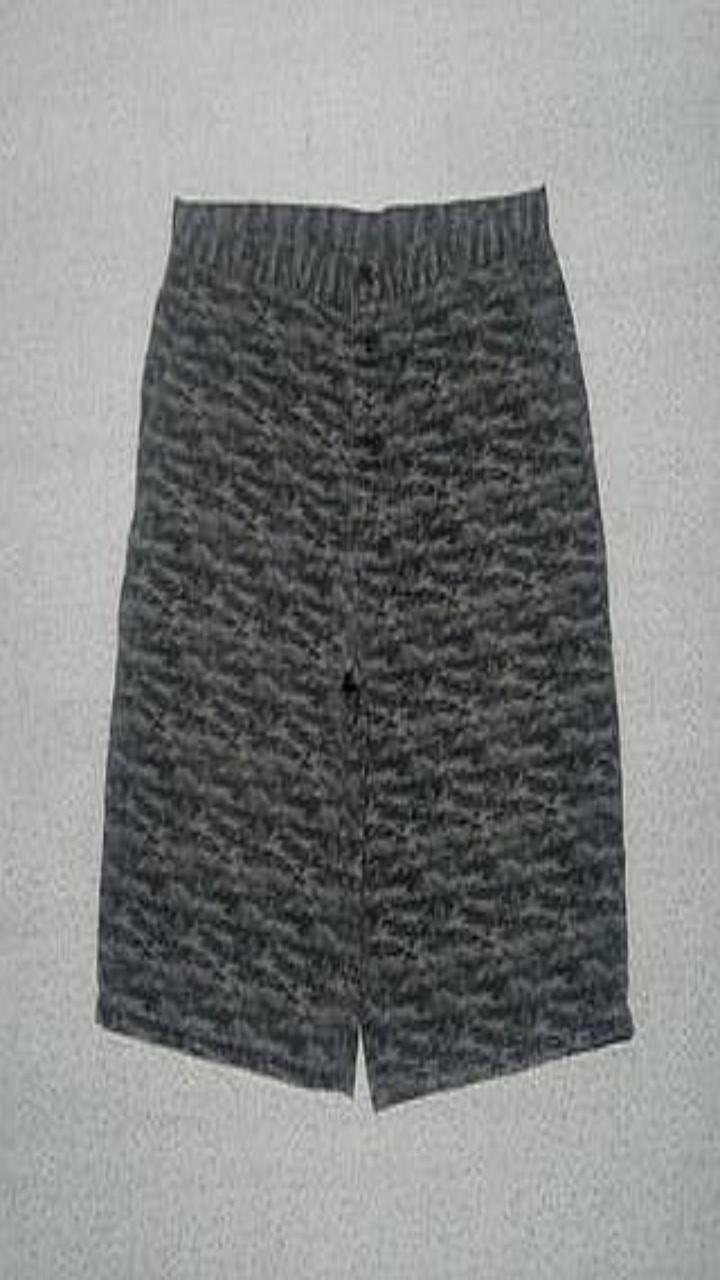Shorts: (95, 185, 632, 1109)
